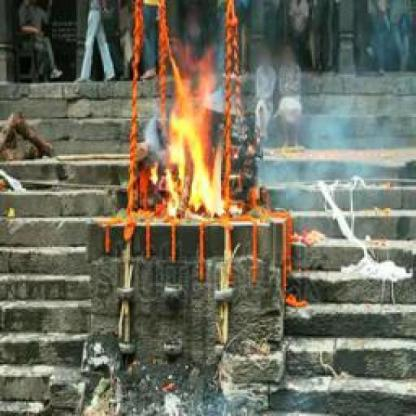fire: (159, 44, 236, 222)
